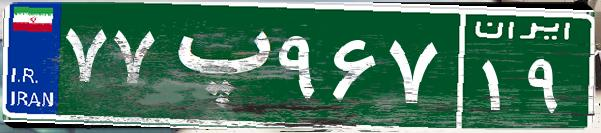1: (475, 38, 525, 113)
6: (330, 28, 385, 110)
7: (385, 28, 445, 110), (57, 26, 110, 107), (110, 28, 158, 105)
9: (273, 28, 330, 110), (525, 38, 570, 115)
پ: (158, 15, 273, 115)
